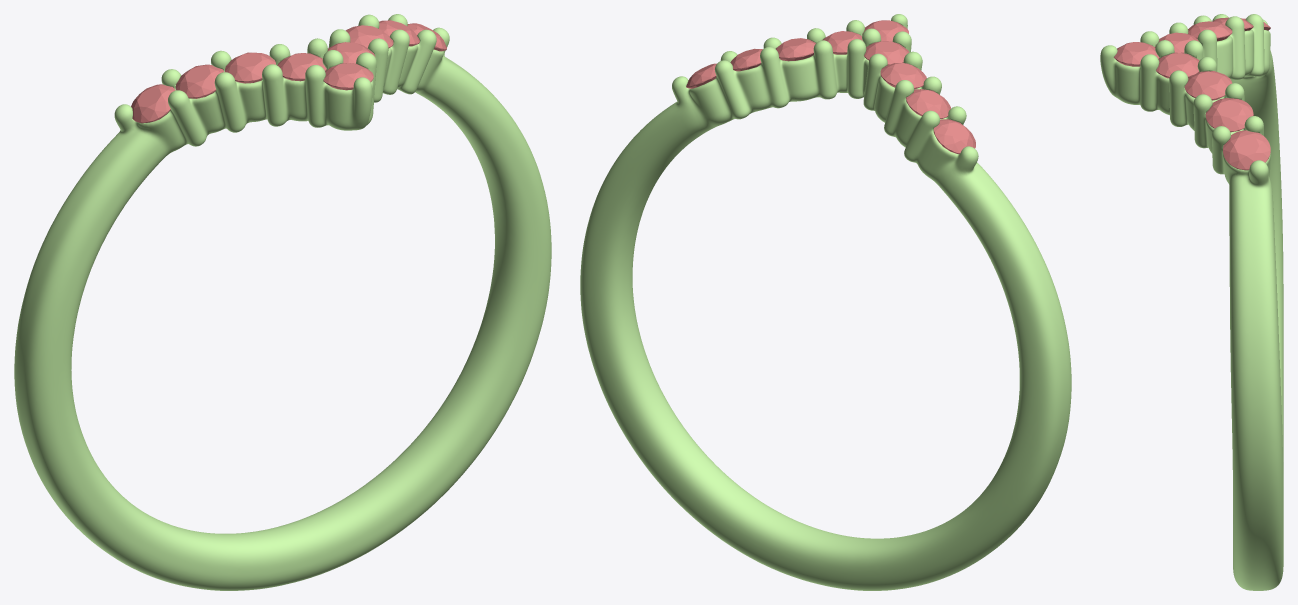
File: BE2D943_RENDER.glb
3 views of the same model, side by side, from view 1: azimuth 30°, elevation 25°; view 2: azimuth 150°, elevation 25°; view 3: azimuth 270°, elevation 25° (orthographic). The views are drawn at different scales.
Visible parts, largest first — view 1: Metal03, Diamond_Round_Gem_BD.003, Diamond_Round_Gem_BD.002, Diamond_Round_Gem_BD.001, Diamond_Round_Gem_BD.008, Diamond_Round_Gem_BD; view 2: Metal03, Diamond_Round_Gem_BD.003, Diamond_Round_Gem_BD.002, Diamond_Round_Gem_BD.001, Diamond_Round_Gem_BD.005, Diamond_Round_Gem_BD; view 3: Metal03, Diamond_Round_Gem_BD.007, Diamond_Round_Gem_BD.006, Diamond_Round_Gem_BD.005, Diamond_Round_Gem_BD.004, Diamond_Round_Gem_BD.008, Diamond_Round_Gem_BD.001, Diamond_Round_Gem_BD.
Part boxes in pixels (left/top/right/bottom): Metal03: left=14, top=14, right=551, bottom=590; Diamond_Round_Gem_BD.003: left=131, top=84, right=175, bottom=123; Diamond_Round_Gem_BD.002: left=175, top=64, right=224, bottom=98; Diamond_Round_Gem_BD.001: left=225, top=52, right=275, bottom=83; Diamond_Round_Gem_BD.008: left=323, top=63, right=373, bottom=90; Diamond_Round_Gem_BD: left=277, top=53, right=326, bottom=81; Metal03: left=580, top=14, right=1071, bottom=590; Diamond_Round_Gem_BD.003: left=933, top=119, right=975, bottom=154; Diamond_Round_Gem_BD.002: left=906, top=89, right=950, bottom=119; Diamond_Round_Gem_BD.001: left=880, top=63, right=926, bottom=89; Diamond_Round_Gem_BD.005: left=776, top=38, right=815, bottom=61; Diamond_Round_Gem_BD: left=864, top=41, right=909, bottom=64; Metal03: left=1100, top=14, right=1283, bottom=590; Diamond_Round_Gem_BD.007: left=1223, top=130, right=1270, bottom=170; Diamond_Round_Gem_BD.006: left=1205, top=98, right=1253, bottom=132; Diamond_Round_Gem_BD.005: left=1184, top=71, right=1232, bottom=100; Diamond_Round_Gem_BD.004: left=1156, top=52, right=1199, bottom=78; Diamond_Round_Gem_BD.008: left=1114, top=42, right=1159, bottom=66; Diamond_Round_Gem_BD.001: left=1188, top=21, right=1232, bottom=41; Diamond_Round_Gem_BD: left=1155, top=32, right=1198, bottom=53.
Size of the model in its own units: 19.96 by 20.56 by 6.52.
